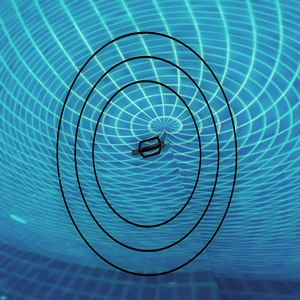circle: (41, 22, 262, 283)
submarine: (134, 135, 163, 159)
